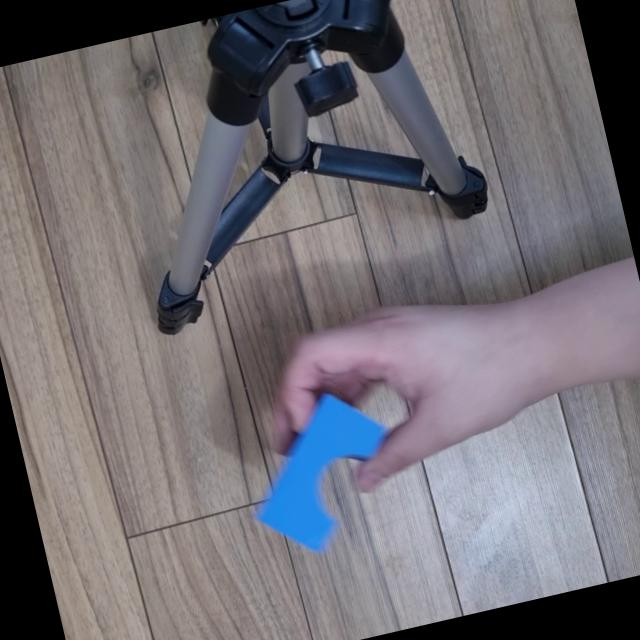block: (233, 376, 411, 564)
hand: (219, 258, 539, 514)
